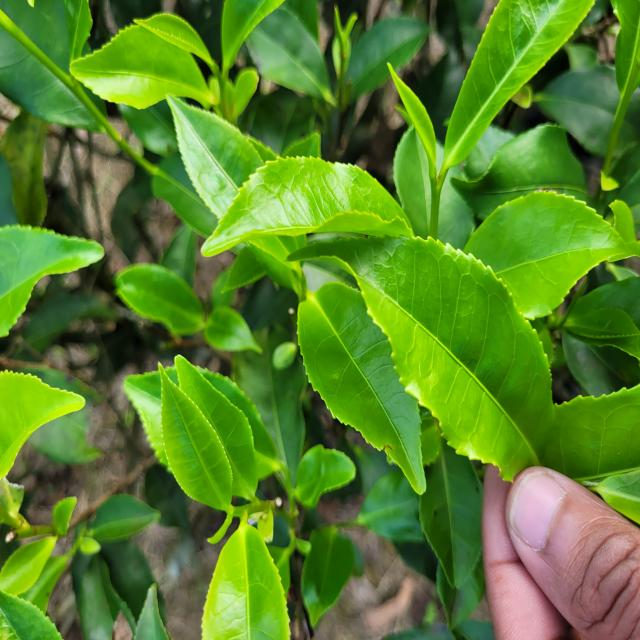Category B 2-4 days: (278, 200, 562, 502)
